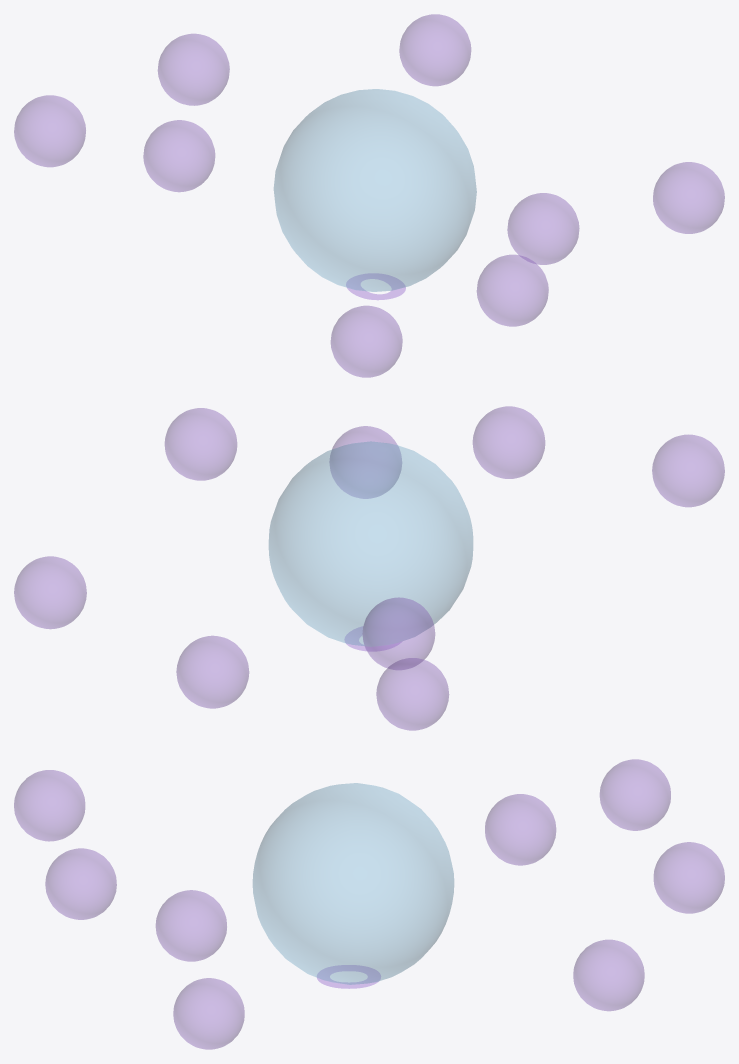
Rendered from dpsd19015-O-Atom.gltf.
3 views of the same model, one above another, from view 1: azimuth 30°, elevation 25°; view 2: azimuth 150°, elevation 25°; view 3: azimuth 270°, elevation 25° (orthographic).
Parts seen in each view (by area): view 1: Sphere, Sphere.002, Sphere.008, Sphere.003, Sphere.007, Sphere.001, Sphere.005, Sphere.006, Sphere.004, Text; view 2: Sphere, Sphere.005, Sphere.007, Sphere.006, Sphere.001, Sphere.008, Sphere.004, Sphere.003, Sphere.002; view 3: Sphere, Sphere.004, Sphere.006, Sphere.001, Sphere.008, Sphere.007, Sphere.002, Sphere.003, Sphere.005, Text.
Part boxes in pixels (<box>): Sphere: <box>274,89,476,291</box>; Sphere.002: <box>507,193,579,264</box>; Sphere.008: <box>143,120,214,191</box>; Sphere.003: <box>331,306,402,377</box>; Sphere.007: <box>14,95,85,166</box>; Sphere.001: <box>477,255,548,326</box>; Sphere.005: <box>399,14,470,85</box>; Sphere.006: <box>158,34,229,105</box>; Sphere.004: <box>653,162,724,233</box>; Text: <box>346,273,405,300</box>; Sphere: <box>269,441,472,646</box>; Sphere.005: <box>14,556,86,628</box>; Sphere.007: <box>376,658,448,730</box>; Sphere.006: <box>176,636,248,708</box>; Sphere.001: <box>473,406,544,478</box>; Sphere.008: <box>362,597,434,669</box>; Sphere.004: <box>165,408,236,480</box>; Sphere.003: <box>652,434,724,506</box>; Sphere.002: <box>329,426,401,498</box>; Sphere: <box>253,783,453,984</box>; Sphere.004: <box>173,978,244,1049</box>; Sphere.006: <box>654,842,724,913</box>; Sphere.001: <box>45,848,116,919</box>; Sphere.008: <box>485,794,555,865</box>; Sphere.007: <box>600,759,670,830</box>; Sphere.002: <box>156,890,226,961</box>; Sphere.003: <box>14,770,84,841</box>; Sphere.005: <box>573,940,644,1010</box>; Text: <box>317,965,380,988</box>.
Bounding box in the file's own units: 2.33 × 0.8542 × 2.97.
